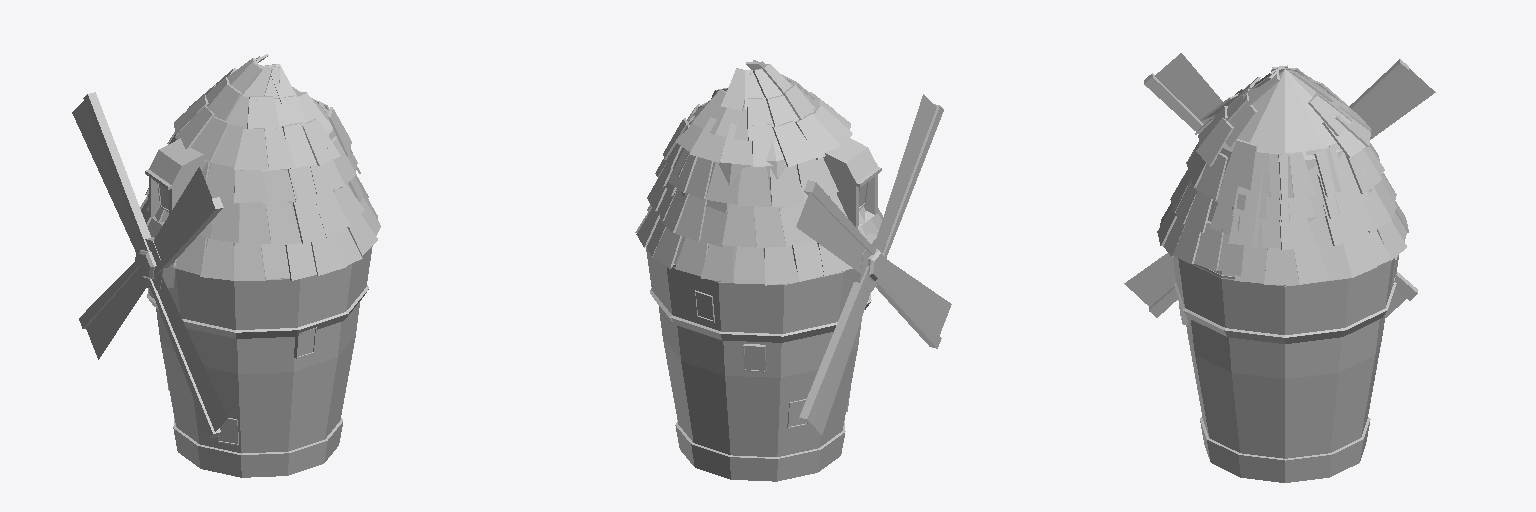
Rendered from windmill.obj.
3 views of the same model, side by side, from view 1: azimuth 30°, elevation 25°; view 2: azimuth 150°, elevation 25°; view 3: azimuth 270°, elevation 25° (orthographic).
Parts seen in each view (by area): view 1: pCube608; view 2: pCube608; view 3: pCube608.
Part boxes in pixels (bbox=[...]): pCube608: bbox=[72, 54, 380, 477]; pCube608: bbox=[635, 60, 951, 481]; pCube608: bbox=[1124, 53, 1435, 482].
Bounding box in the file's own units: 8.7 × 14.18 × 10.51.